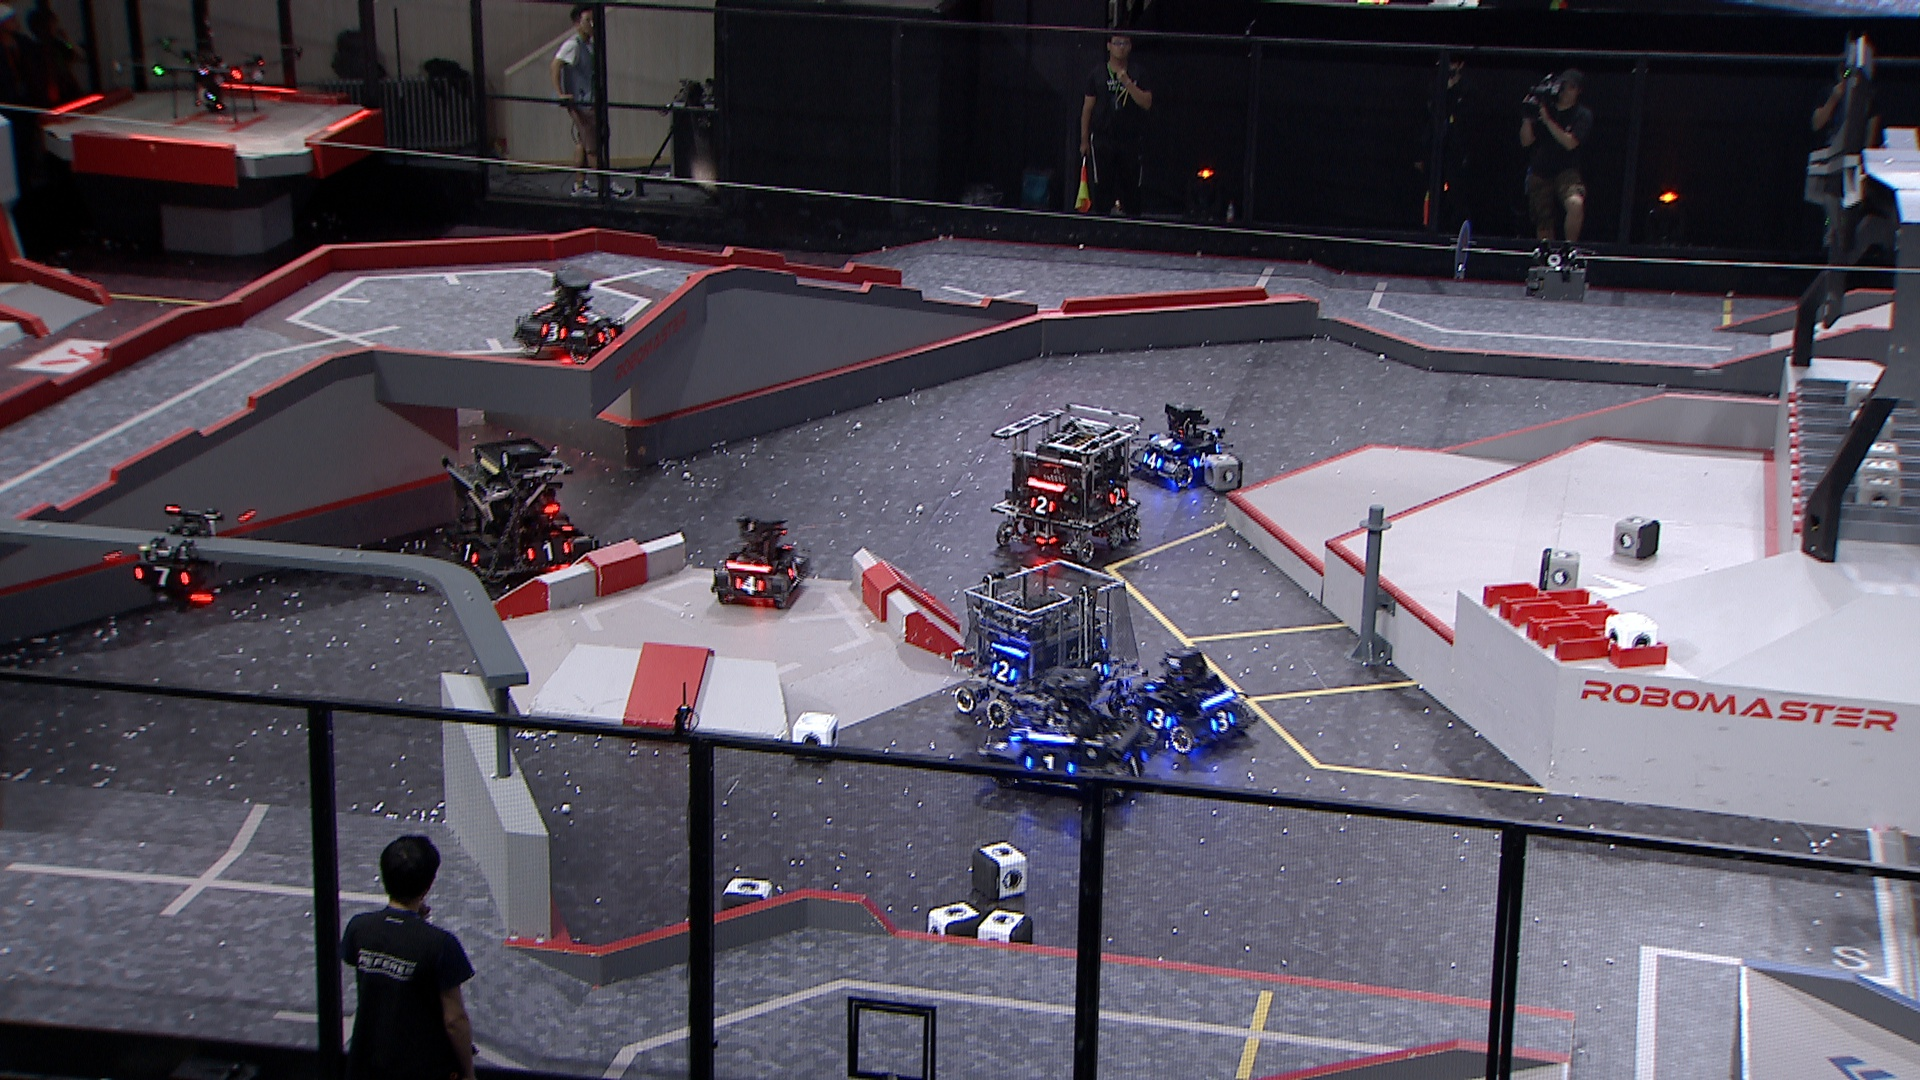armor: (133, 562, 193, 588), (1021, 752, 1077, 775), (526, 541, 572, 564), (989, 659, 1021, 687), (1211, 707, 1240, 735), (1125, 749, 1150, 781), (537, 320, 568, 344), (731, 574, 767, 593), (1027, 495, 1058, 518), (1143, 707, 1174, 731), (456, 538, 480, 567), (1150, 433, 1182, 452), (1007, 721, 1033, 742), (595, 324, 617, 347), (1091, 659, 1112, 683), (1141, 674, 1166, 694), (572, 309, 603, 324), (547, 516, 575, 533), (1141, 451, 1164, 471), (1106, 487, 1127, 508), (785, 559, 803, 580), (1191, 450, 1209, 471)
car: (951, 559, 1135, 736), (986, 404, 1145, 566), (984, 669, 1155, 816), (442, 436, 603, 588), (1122, 647, 1261, 756), (509, 266, 622, 367), (708, 513, 814, 613), (1124, 400, 1229, 491)
watcher: (131, 504, 222, 611)
